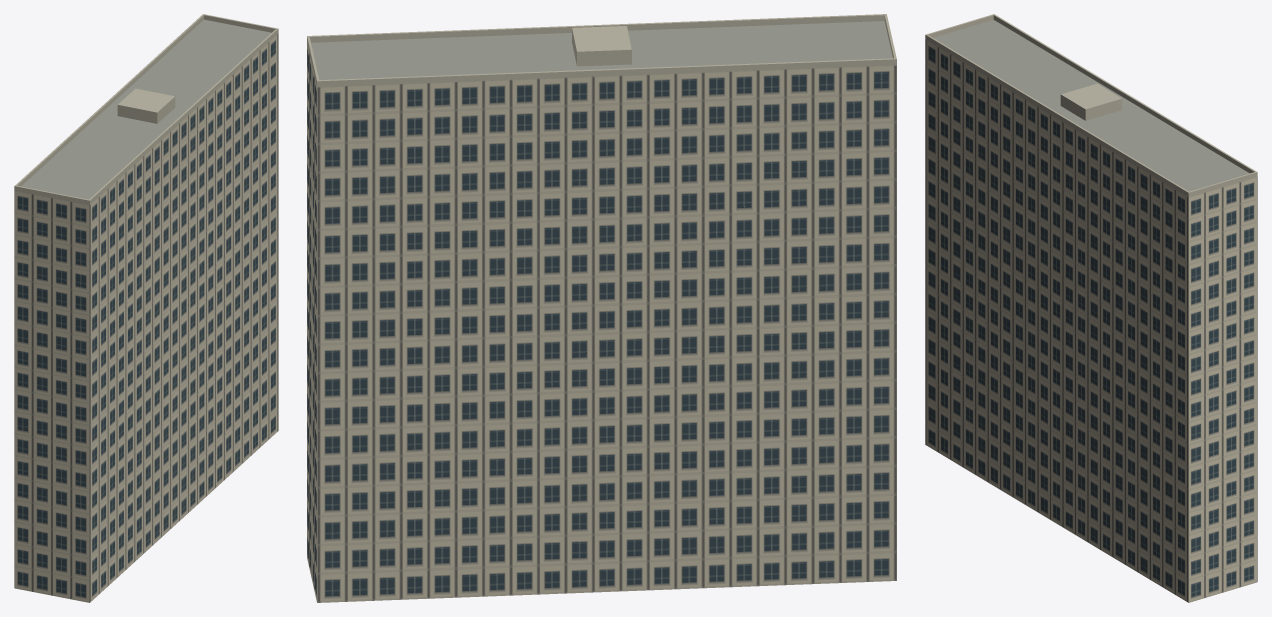
The picture shows the model from 3 angles, left to right: view 1: azimuth 30°, elevation 25°; view 2: azimuth 150°, elevation 25°; view 3: azimuth 270°, elevation 25°; orthographic projection. The views are drawn at different scales.
Visible parts, largest first — view 1: B03_tower, B03_tower_parapet, B03_tower_plant; view 2: B03_tower, B03_tower_parapet, B03_tower_plant; view 3: B03_tower, B03_tower_parapet, B03_tower_plant.
Boxes of the visible parts, x1,y1,x2,y2 form: B03_tower: (14,19,278,602); B03_tower_parapet: (14,14,278,205); B03_tower_plant: (117,88,175,123); B03_tower: (307,21,896,602); B03_tower_parapet: (307,14,896,87); B03_tower_plant: (572,26,631,66); B03_tower: (925,20,1257,602); B03_tower_parapet: (925,14,1257,197); B03_tower_plant: (1060,83,1122,120).
Size of the model in its own units: 66.41 by 72.2 by 52.15.
3 materials, 1 textured.
